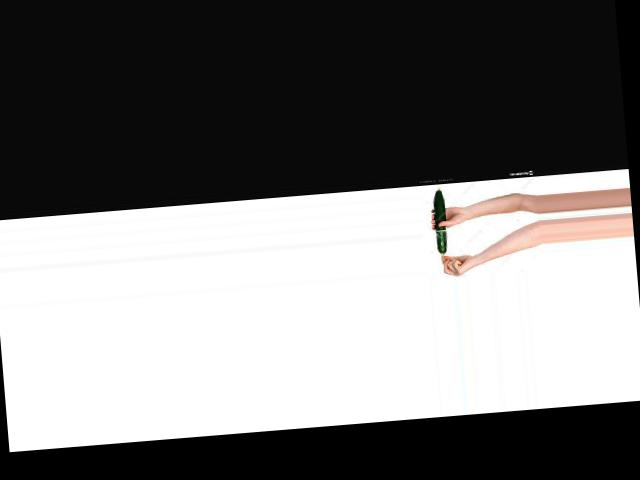cucumber: (431, 188, 447, 253)
